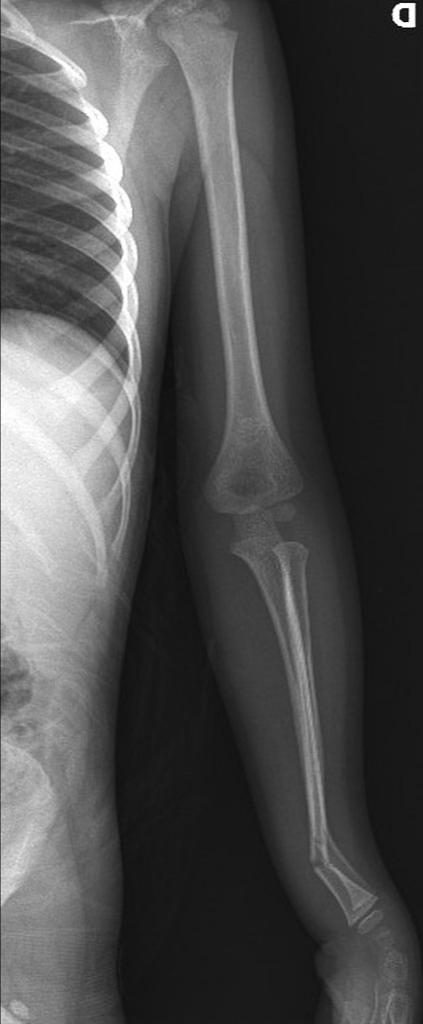angle: (310, 844, 336, 884)
line: (203, 144, 221, 179)
